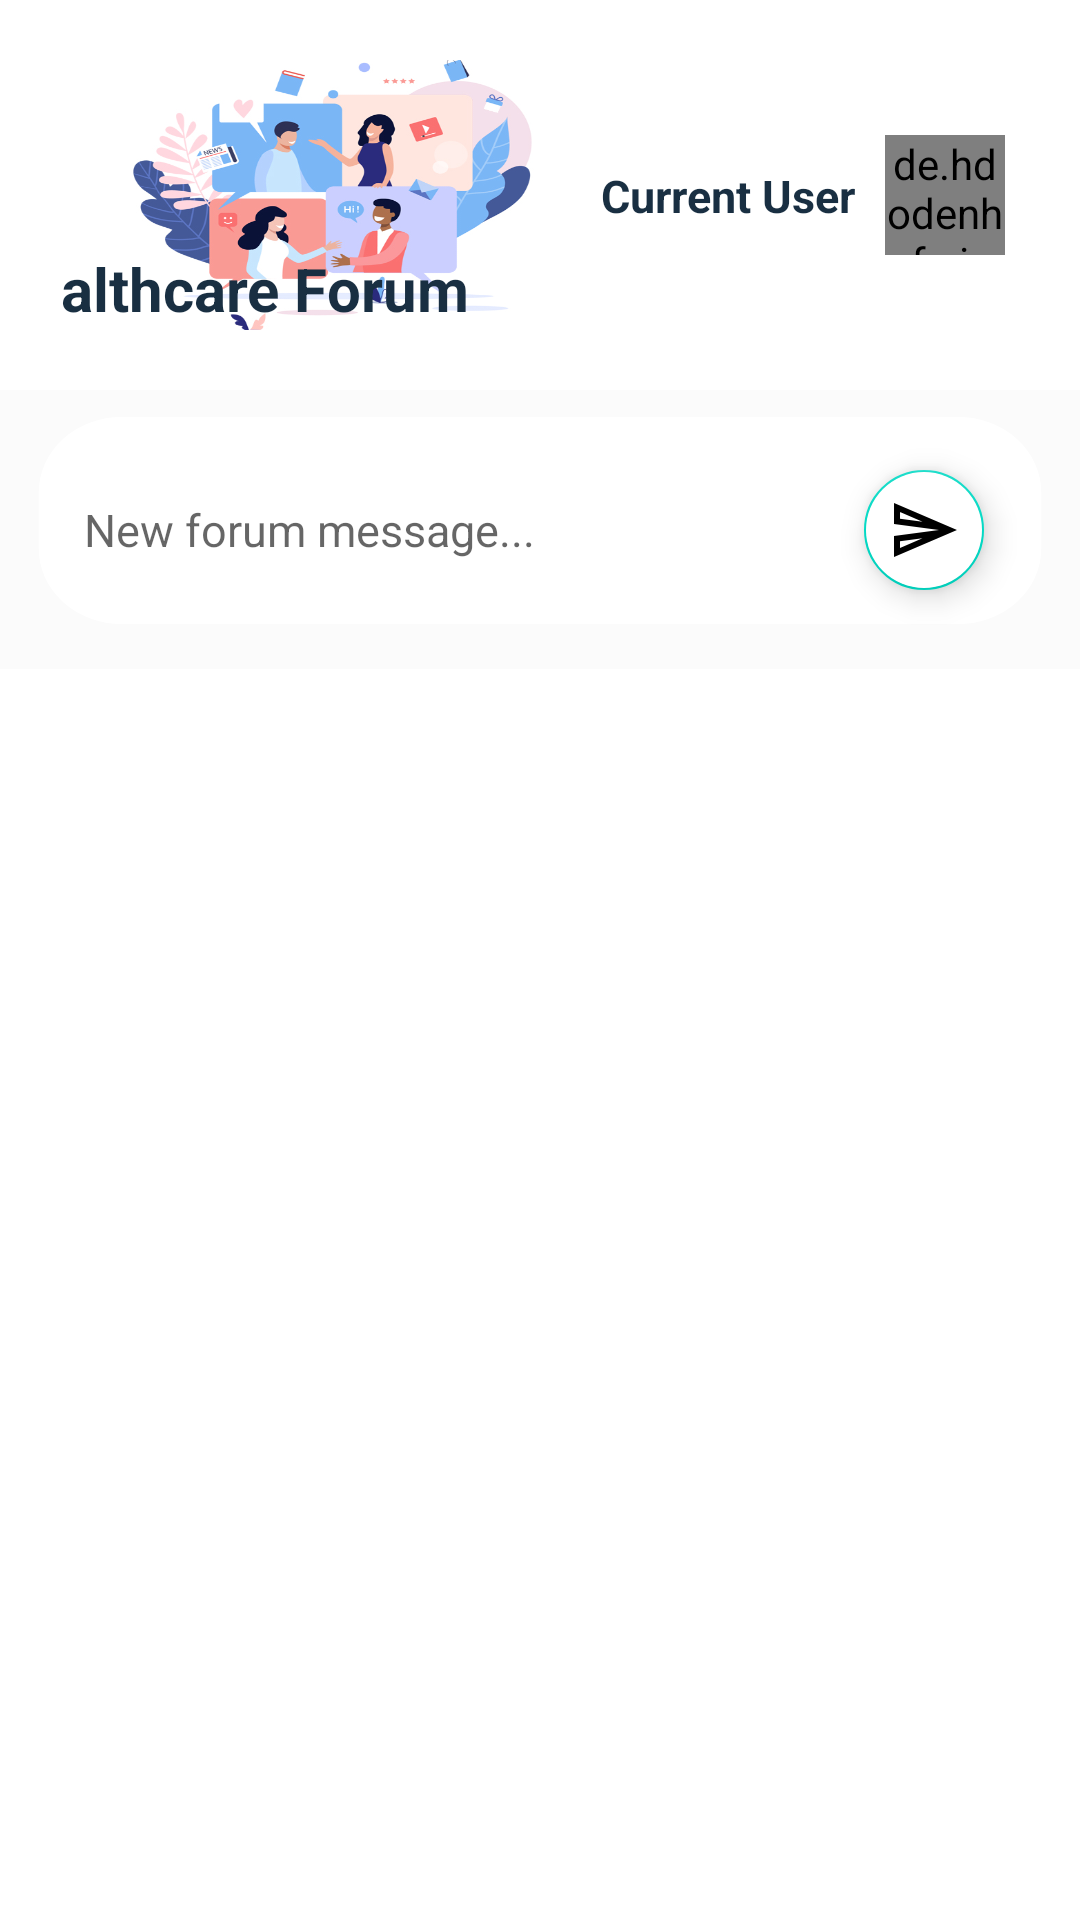

Named icons in this screenshot (1080 × 1920) and their bounding boxes, rect(x1, y1, x2, y2):
sent: rect(864, 470, 986, 593)
